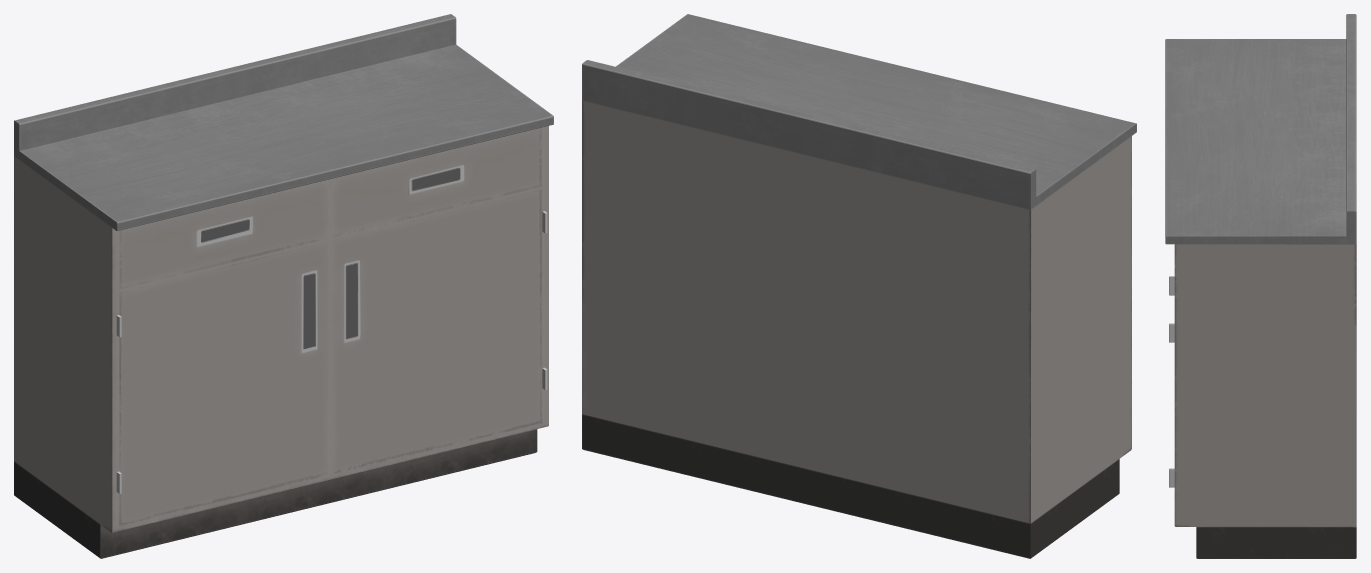
File: science_lab_cabinet.glb
3 renders of one model, left to right at view 1: azimuth 30°, elevation 25°; view 2: azimuth 150°, elevation 25°; view 3: azimuth 270°, elevation 25°, orthographic. The views are drawn at different scales.
Visible parts, largest first — view 1: Cabinet_Low; view 2: Cabinet_Low; view 3: Cabinet_Low, Joint_Low.
Part boxes in pixels (left/top/right/bottom): Cabinet_Low: left=14, top=14, right=553, bottom=558; Cabinet_Low: left=582, top=14, right=1136, bottom=558; Cabinet_Low: left=1165, top=14, right=1356, bottom=558; Joint_Low: left=1169, top=276, right=1174, bottom=487.
Bounding box in the file's own units: 128 × 106 × 52.5.
1 material, 1 textured.
